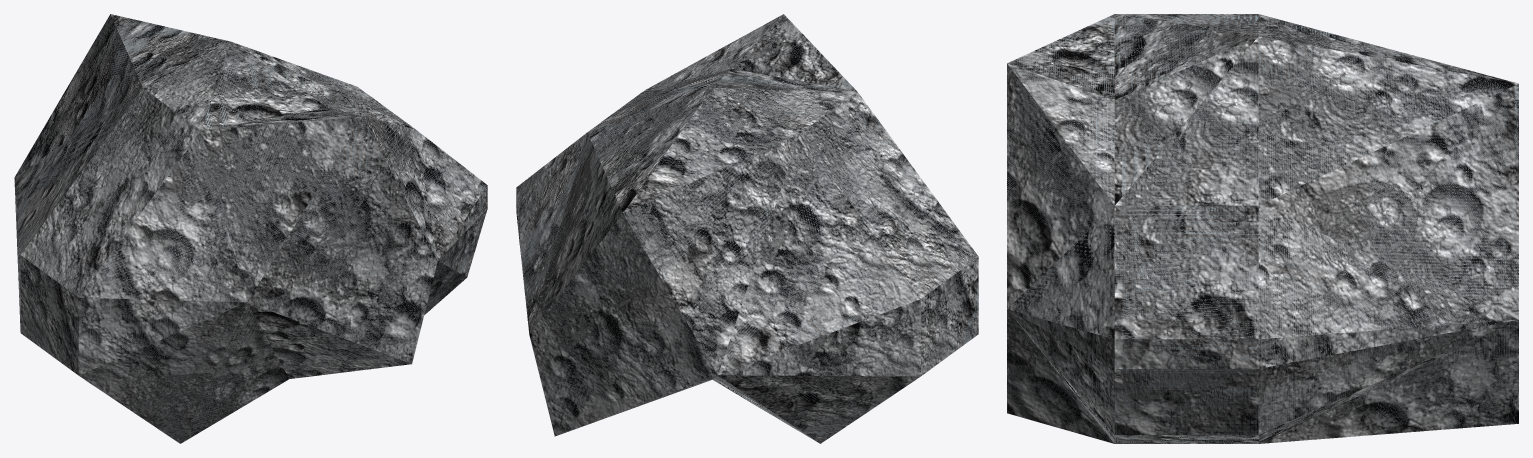
File: asteroid2.fbx
3 renders of one model, left to right at view 1: azimuth 30°, elevation 25°; view 2: azimuth 150°, elevation 25°; view 3: azimuth 270°, elevation 25°, orthographic. The views are drawn at different scales.
Parts seen in each view (by area): view 1: Model; view 2: Model; view 3: Model.
Part boxes in pixels (x1,y1,x2,y2): Model: [14, 14, 487, 443]; Model: [516, 14, 978, 443]; Model: [1007, 14, 1518, 443].
Bounding box in the file's own units: 1.92 × 1.49 × 1.68.
